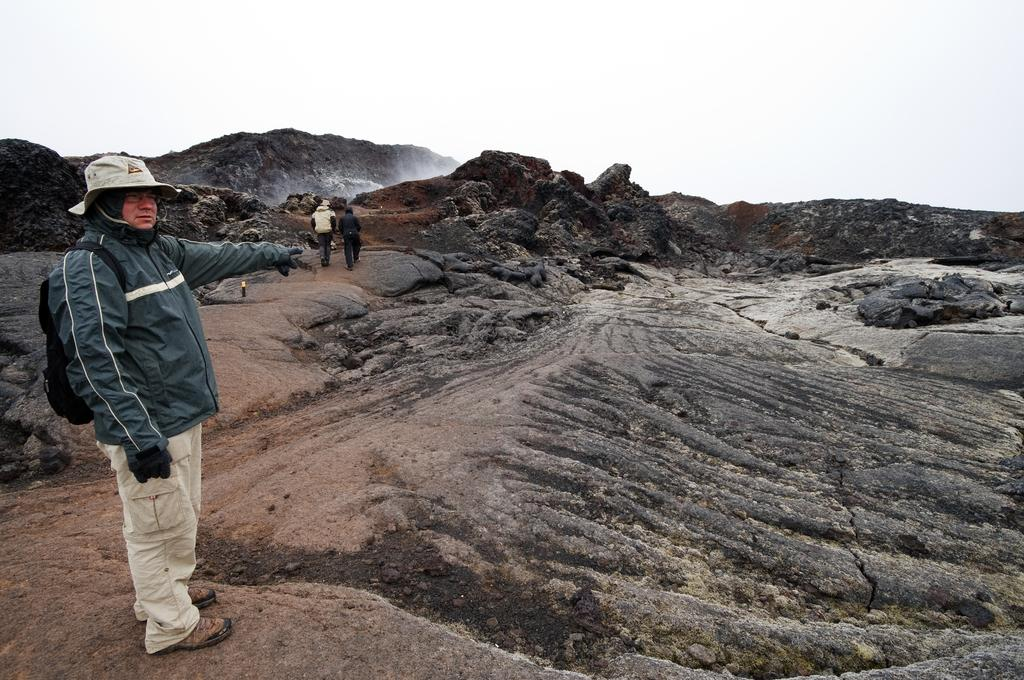Hat: (70, 157, 173, 219)
